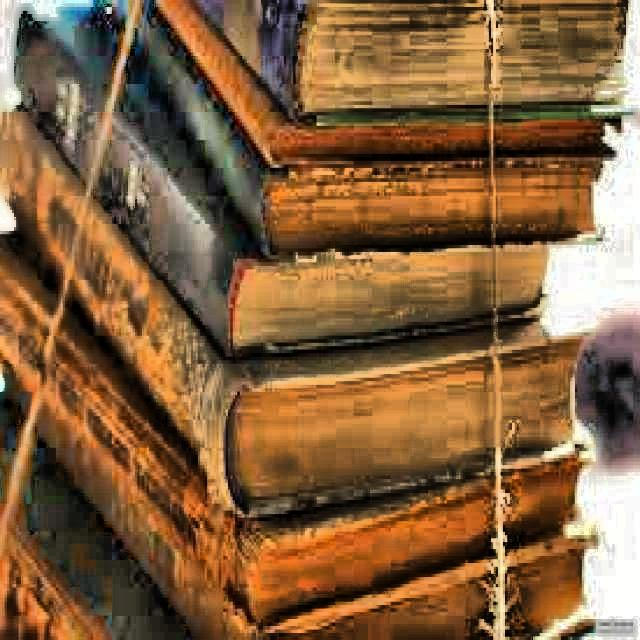Paper: (0, 80, 586, 521), (0, 227, 593, 636), (9, 0, 545, 357), (2, 332, 591, 637), (88, 0, 603, 252), (151, 0, 623, 164), (184, 0, 626, 115)
